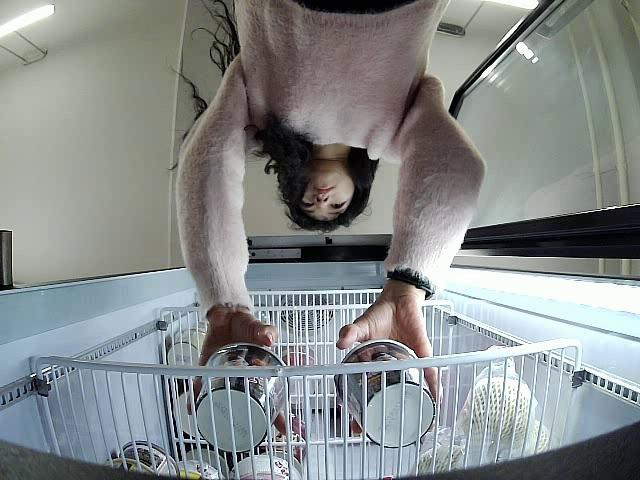08_buldak_S: (334, 340, 434, 449), (196, 342, 290, 452)
